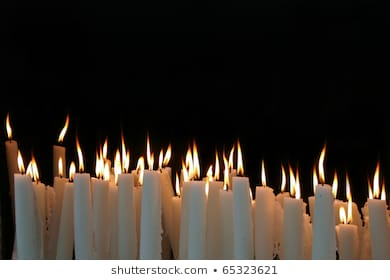Fire: (122, 136, 174, 181), (203, 141, 246, 178), (92, 141, 122, 182), (274, 163, 307, 199), (359, 163, 387, 199), (177, 147, 203, 179), (314, 142, 327, 185), (57, 113, 71, 145), (334, 201, 356, 221), (28, 156, 43, 183), (346, 171, 357, 205), (75, 141, 86, 173), (257, 159, 270, 186), (170, 177, 186, 197), (2, 115, 13, 137), (331, 171, 340, 197), (15, 150, 25, 173), (55, 155, 64, 180), (67, 158, 75, 181)
